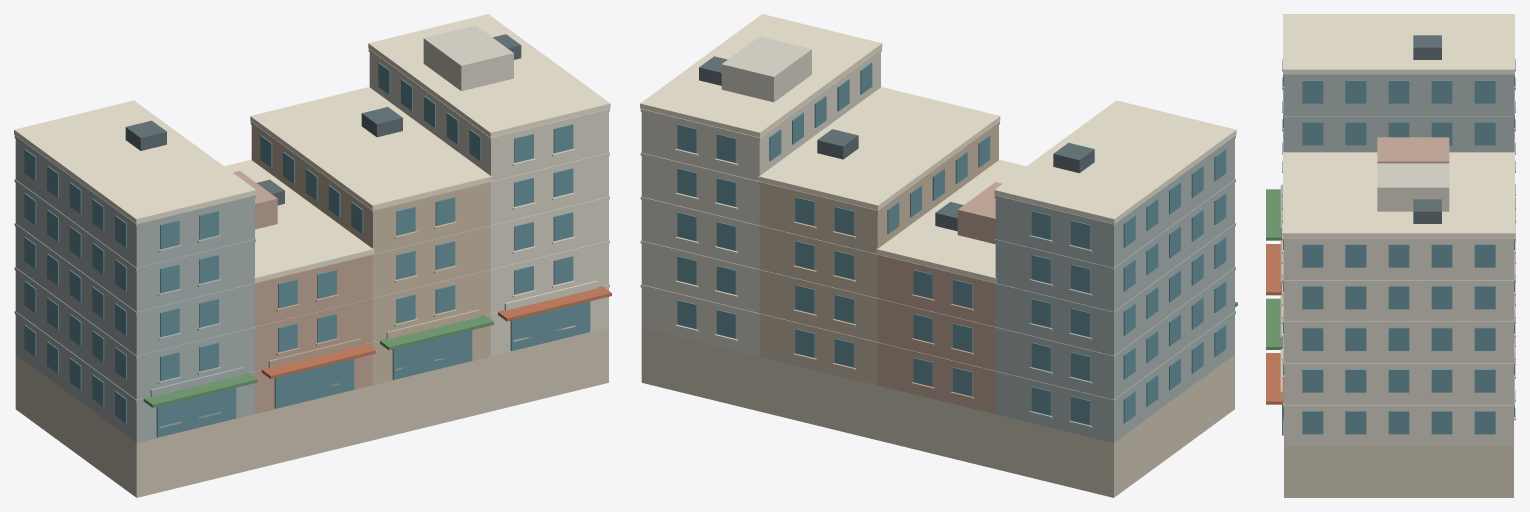
Rendered from streetwall-2.glb.
3 renders of one model, left to right at view 1: azimuth 30°, elevation 25°; view 2: azimuth 150°, elevation 25°; view 3: azimuth 270°, elevation 25°, orthographic. The views are drawn at different scales.
Bounding box in the file's own units: 36.16 × 22.2 × 17.39.
